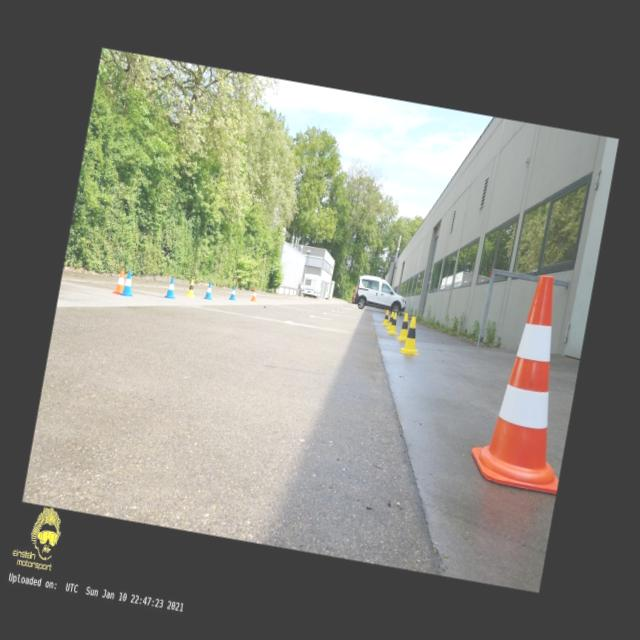blue_cone: (120, 270, 136, 296), (164, 276, 178, 298), (203, 282, 214, 300), (228, 286, 238, 300)
large_orange_cone: (466, 267, 592, 494)
orange_cone: (112, 269, 126, 295), (250, 288, 258, 300)
yellow_cone: (399, 314, 425, 356), (396, 313, 410, 342), (386, 312, 400, 334), (185, 278, 196, 297), (386, 310, 394, 330), (381, 309, 390, 326)
